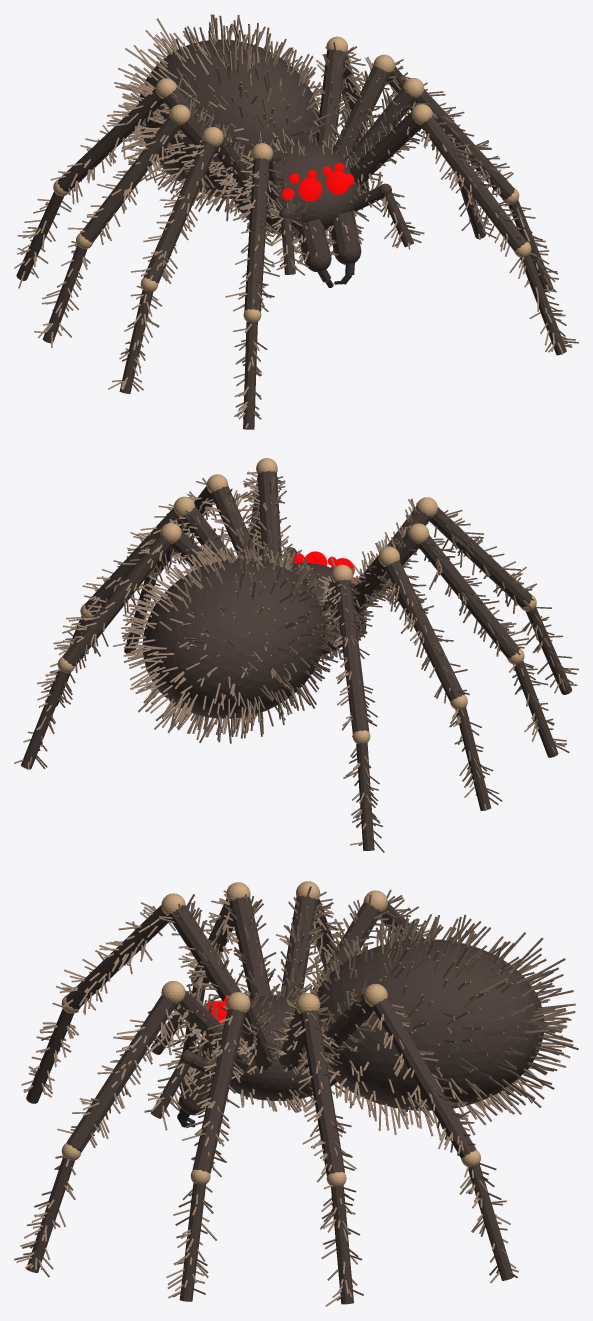
The model's file is spider-v3.glb.
3 views of the same model, one above another, from view 1: azimuth 30°, elevation 25°; view 2: azimuth 150°, elevation 25°; view 3: azimuth 270°, elevation 25° (orthographic). The views are drawn at different scales.
Parts seen in each view (by area): view 1: body, bristle, band, eye; view 2: body, bristle, band, eye; view 3: body, bristle, band.
Boxes of the visible parts, x1,y1,x2,y2 form: body: [16, 39, 566, 429]; bristle: [14, 14, 578, 428]; band: [53, 36, 531, 322]; eye: [282, 162, 354, 201]; body: [21, 470, 571, 850]; bristle: [14, 471, 578, 852]; band: [57, 458, 536, 743]; eye: [291, 551, 355, 580]; body: [26, 896, 544, 1304]; bristle: [14, 885, 578, 1306]; band: [61, 881, 480, 1186].
Bounding box in the file's own units: 0.1835 × 0.0914 × 0.1758.
